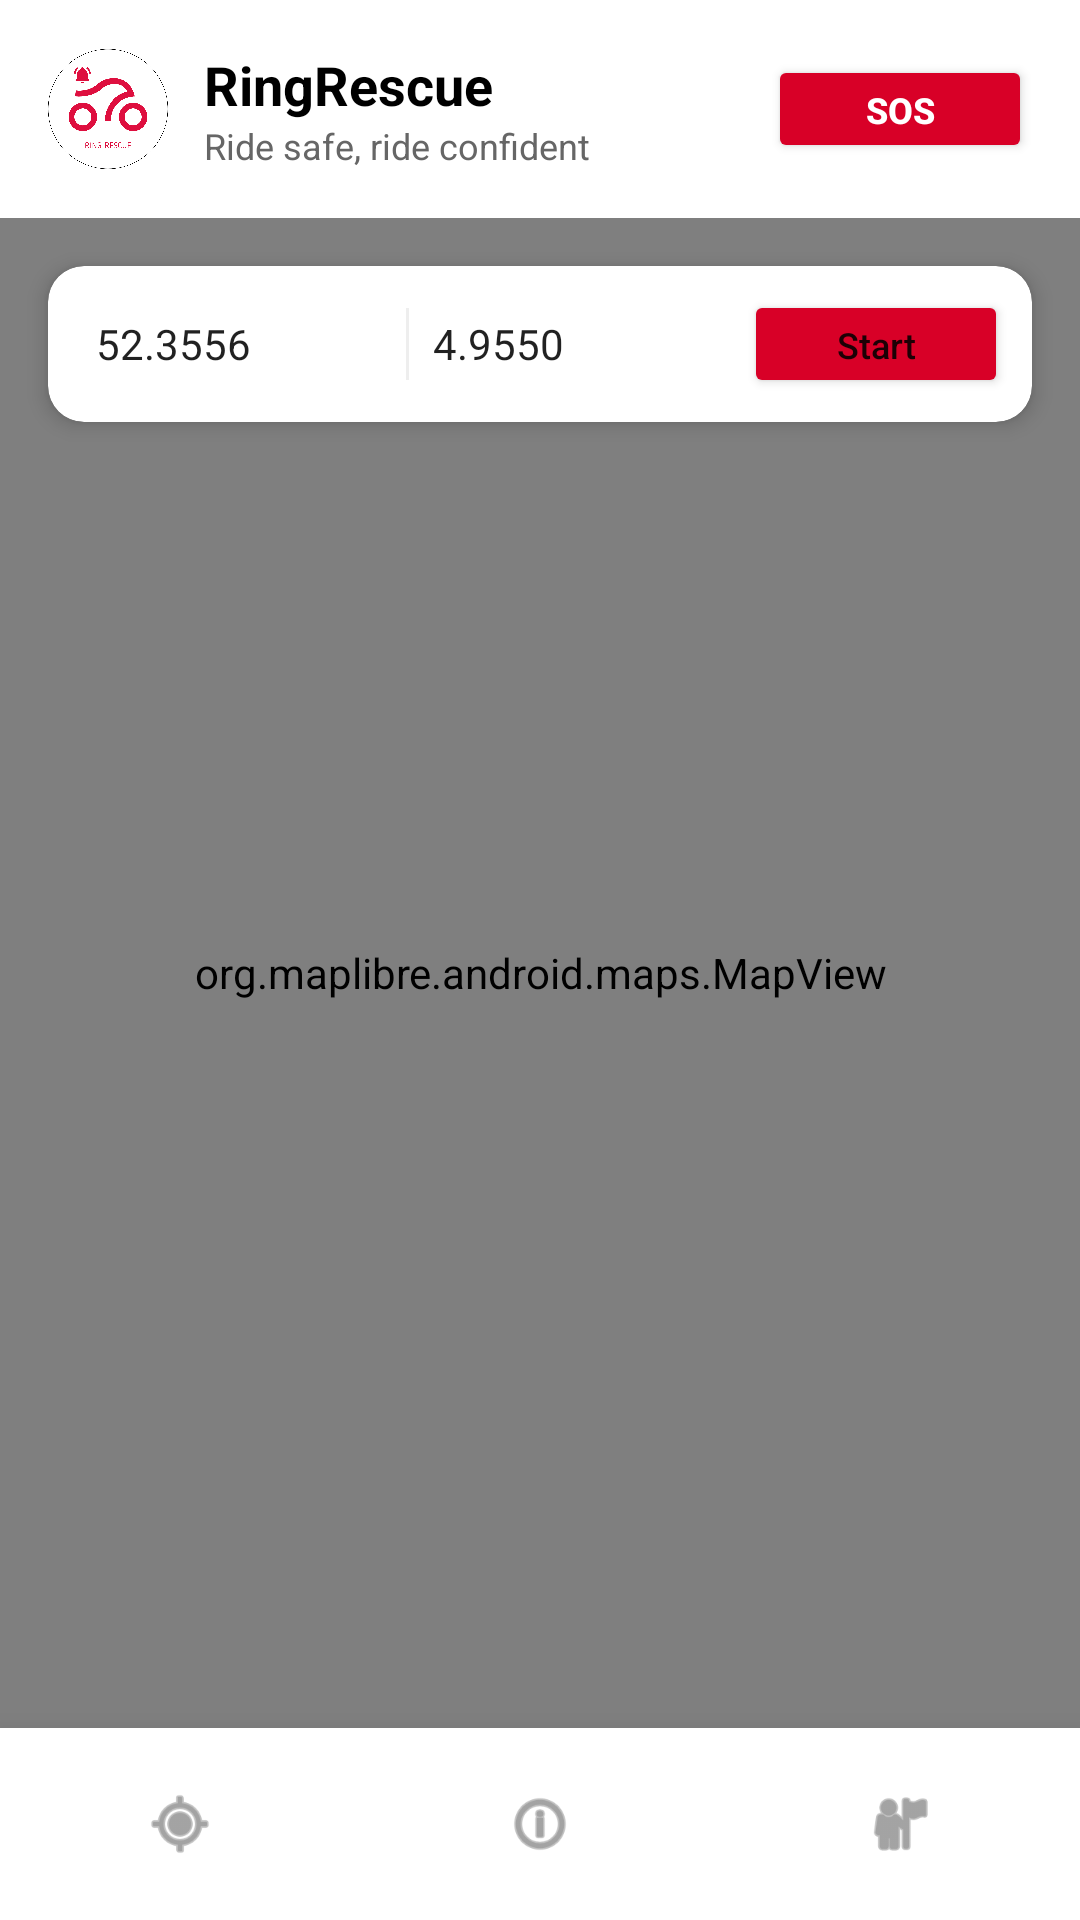

Icons on this 1080 × 1920 Android screen, each with the point to tap as (x=x, y=y):
Device Info: (x=540, y=1824)
Navigation: (x=180, y=1824)
